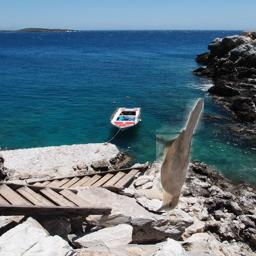Cuckoo: (156, 98, 204, 212)
